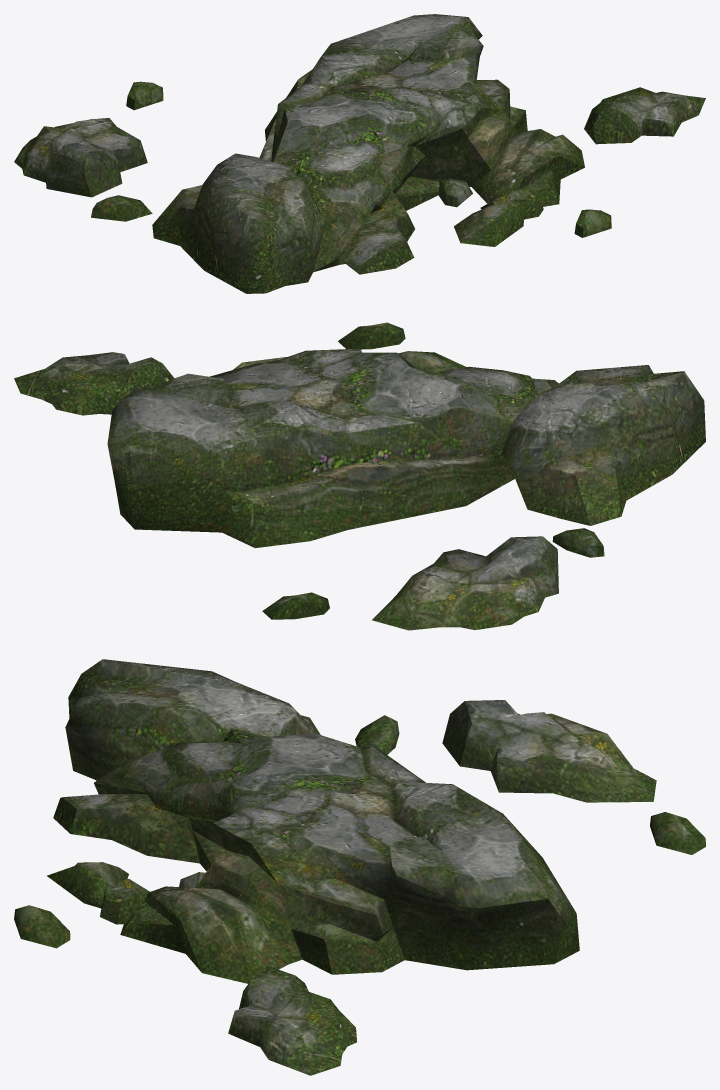
Rendered from 2014_Item_shitou_3.FBX.
3 views of the same model, one above another, from view 1: azimuth 30°, elevation 25°; view 2: azimuth 150°, elevation 25°; view 3: azimuth 270°, elevation 25° (orthographic). The views are drawn at different scales.
Parts seen in each view (by area): view 1: 2014_Item_shitou_3; view 2: 2014_Item_shitou_3; view 3: 2014_Item_shitou_3.
Boxes of the visible parts, bbox=[...] form: 2014_Item_shitou_3: bbox=[14, 14, 705, 293]; 2014_Item_shitou_3: bbox=[14, 322, 705, 630]; 2014_Item_shitou_3: bbox=[14, 659, 705, 1075].
Bounding box in the file's own units: 4081 × 622 × 3405.
